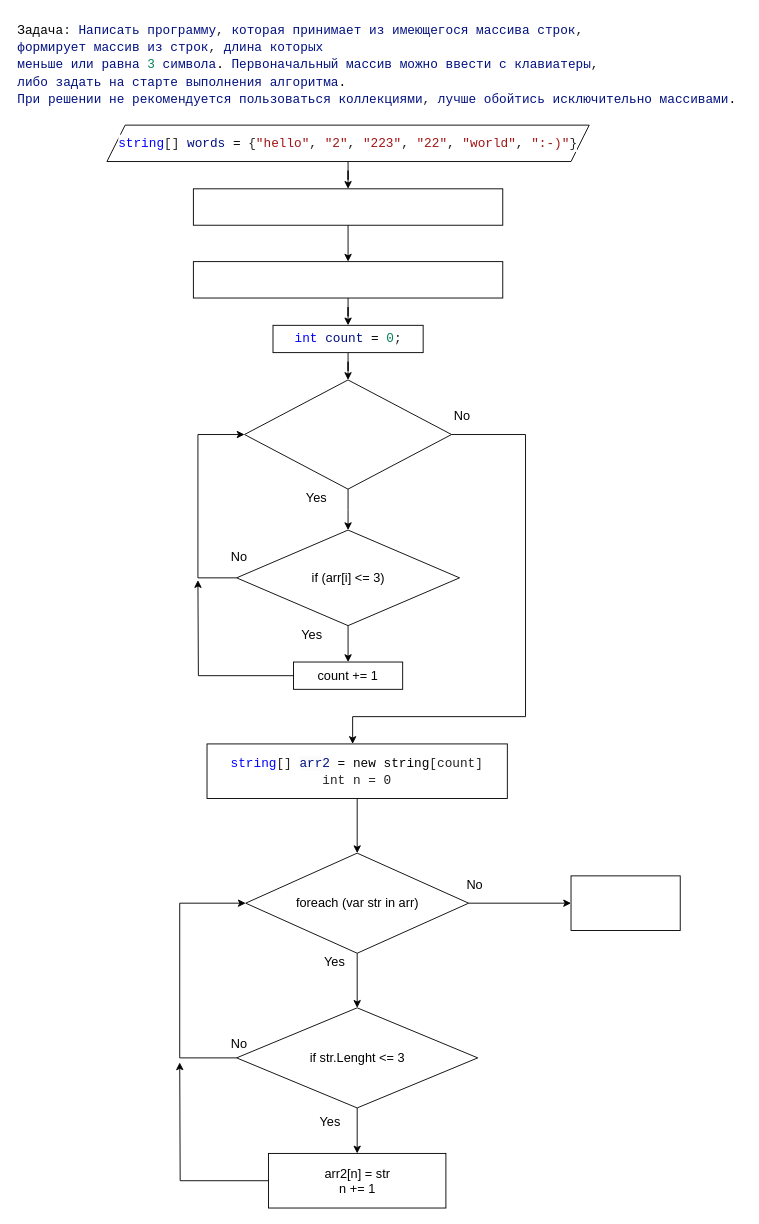
This 759x1224 diagram has some shape labels left out. The shapes that lost their labels are listed below. From the top down, each one's centre as x and y in pixels, then its label:
the point at 347,206: string [ ] array2 = ModifyArray ( words )
the point at 347,279: string [ ] ModifyArray ( string [ ] arr )
the point at 348,434: for (i = 0; i < arr.Lenght; i++)
the point at 625,902: return arr2
